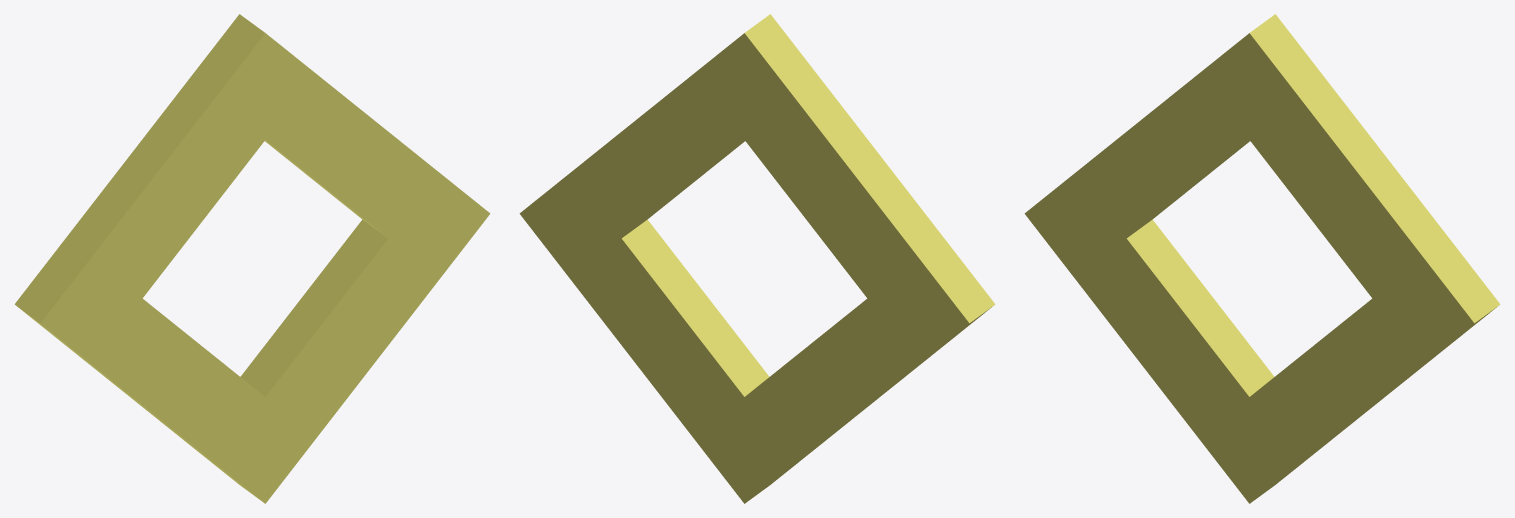
File: trackNote_original.fbx
3 renders of one model, left to right at view 1: azimuth 30°, elevation 25°; view 2: azimuth 150°, elevation 25°; view 3: azimuth 330°, elevation 25°, orthographic.
Parts seen in each view (by area): view 1: TRACK; view 2: TRACK; view 3: TRACK.
Boxes of the visible parts, bbox=[...] form: TRACK: bbox=[14, 14, 490, 503]; TRACK: bbox=[519, 14, 995, 503]; TRACK: bbox=[1024, 14, 1500, 503].
Size of the model in its own units: 200 by 200 by 20.
Materials: 1 (1 with a texture image).
